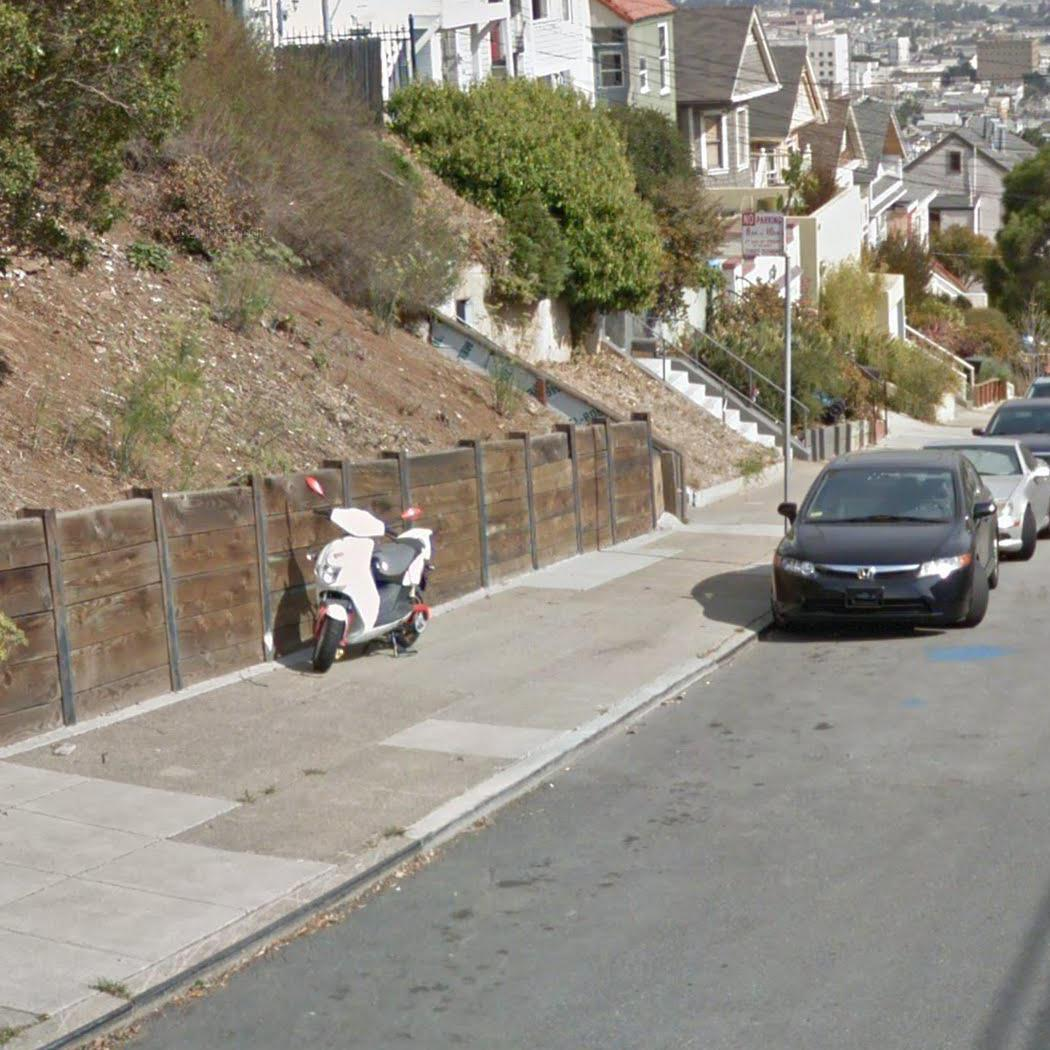No Parking: (740, 206, 791, 263)
